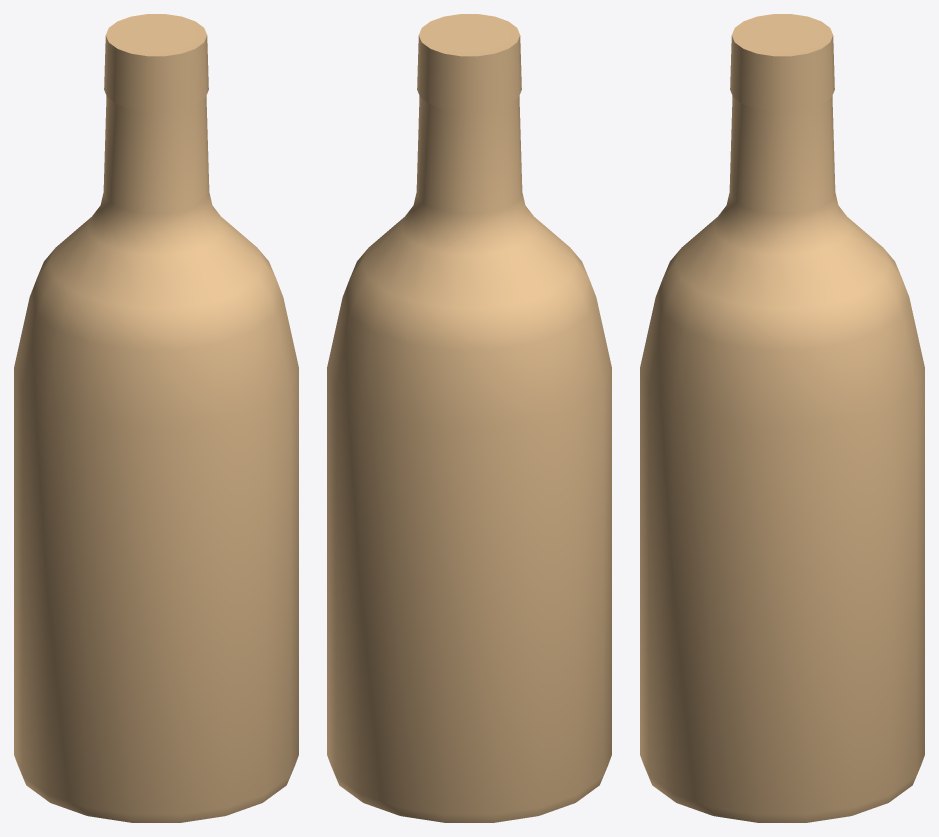
The model's file is bouteille.FBX.
The picture shows the model from 3 angles, left to right: view 1: azimuth 30°, elevation 25°; view 2: azimuth 150°, elevation 25°; view 3: azimuth 270°, elevation 25°; orthographic projection.
Parts seen in each view (by area): view 1: bouteille; view 2: bouteille; view 3: bouteille.
Boxes of the visible parts, x1,y1,x2,y2 form: bouteille: (14,14,298,822); bouteille: (327,14,611,822); bouteille: (640,14,924,822).
Bounding box in the file's own units: 5.44 × 15.71 × 5.53.
